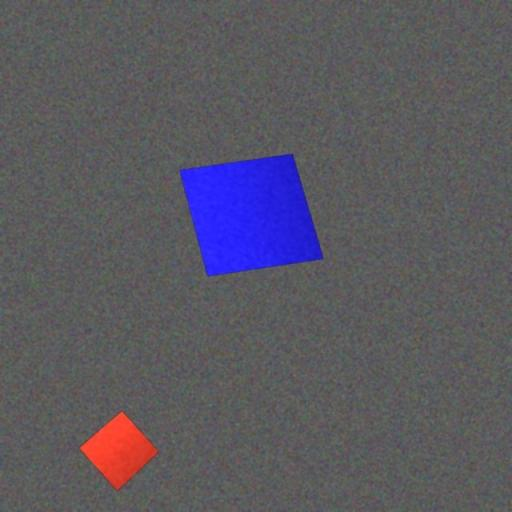BLUE_SQUARE: (178, 153, 325, 277)
RED_SQUARE: (78, 410, 160, 492)
